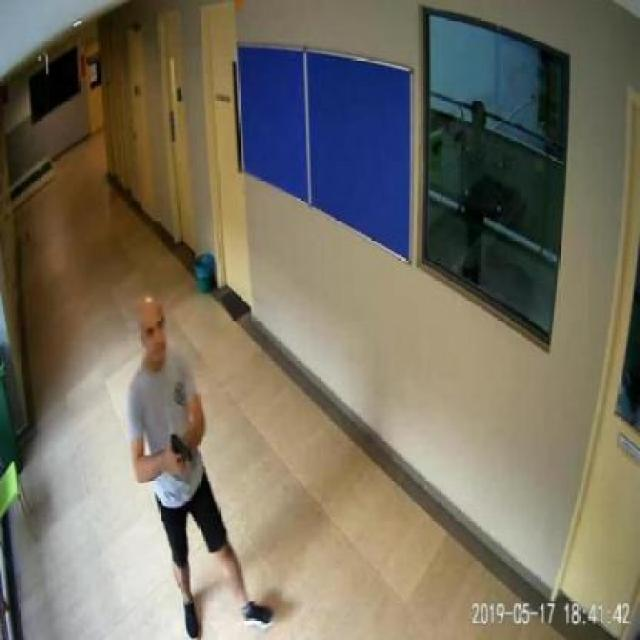gun: (168, 432, 190, 472)
